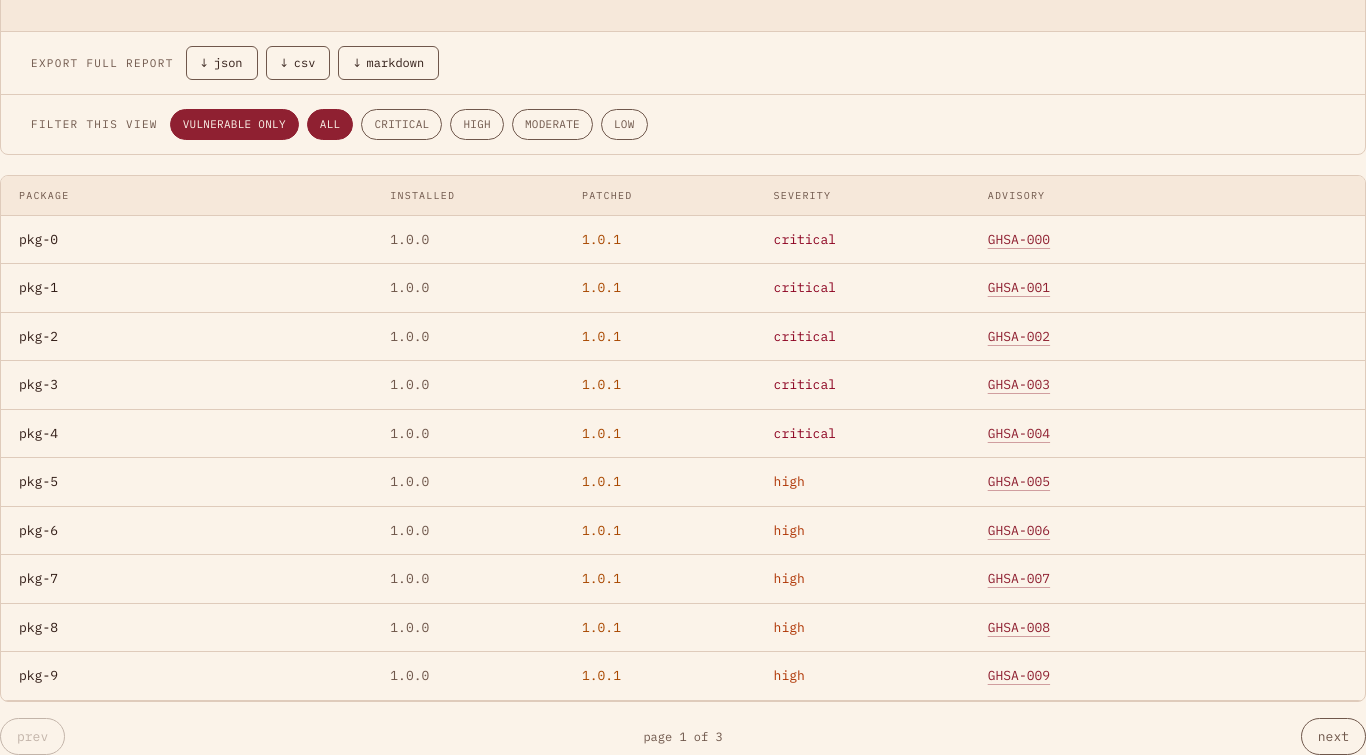
it: paging the findings table › returns to page one when a filter changes
(page scrolled)
What coordinates should you click on to do the following:
click the button "next"
I would click on:
 (1333, 737)
Its box is [1301,718,1365,754].
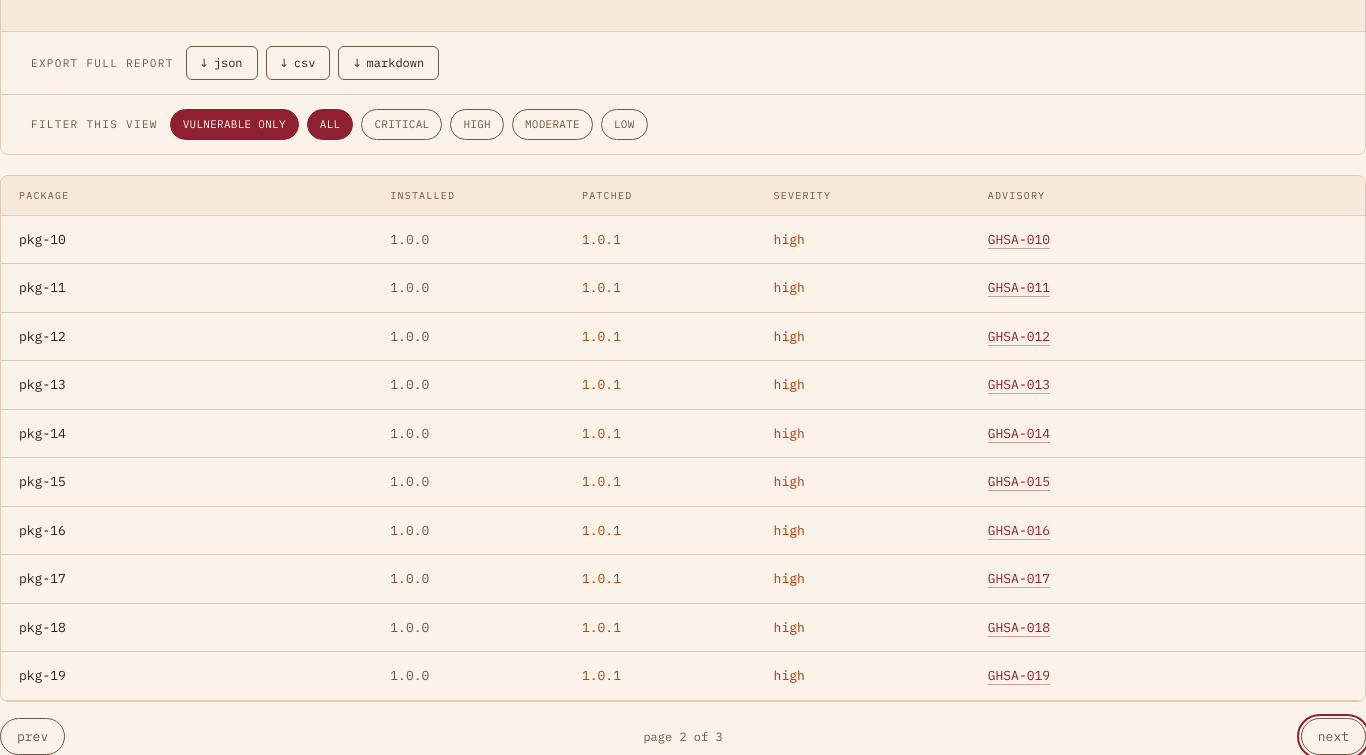
What coordinates should you click on to do the following:
click the button "next"
I would click on:
 (1333, 737)
Its box is [1301,718,1365,754].
(page scrolled)
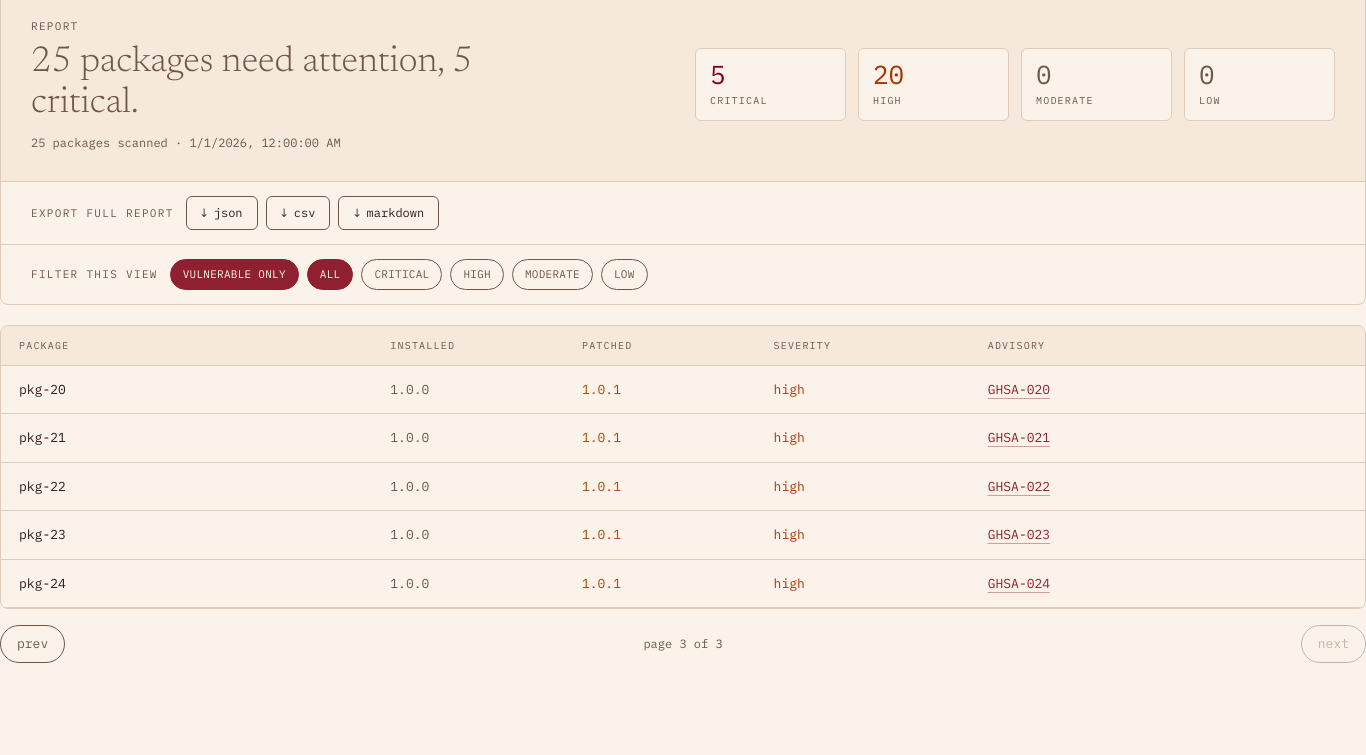
Expected: the text "page 3 of 3" is shown, [643,636,723,652]
What coordinates should you click on to do the following:
click the button "high"
I would click on:
 (477, 275)
Its box is [450,259,504,290].
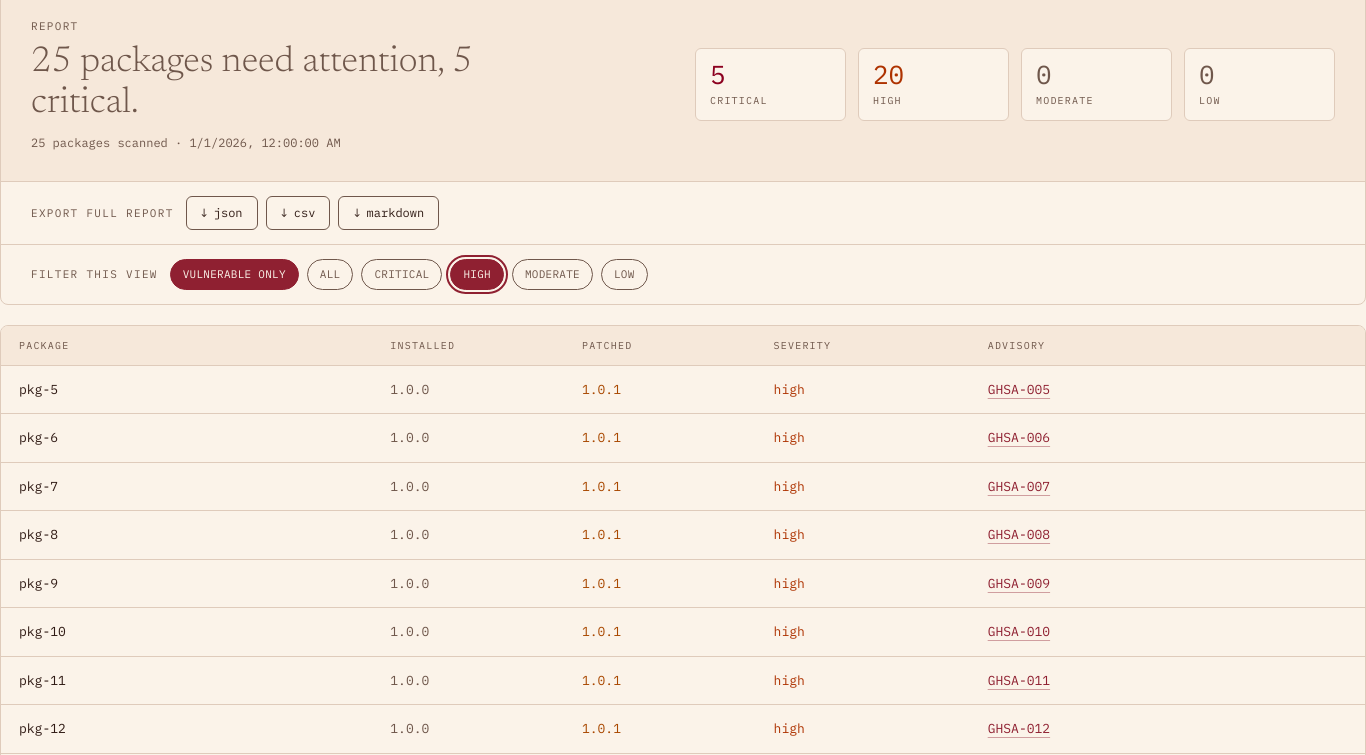
Expected: the link "GHSA-005" is shown, [988,381,1050,398]
